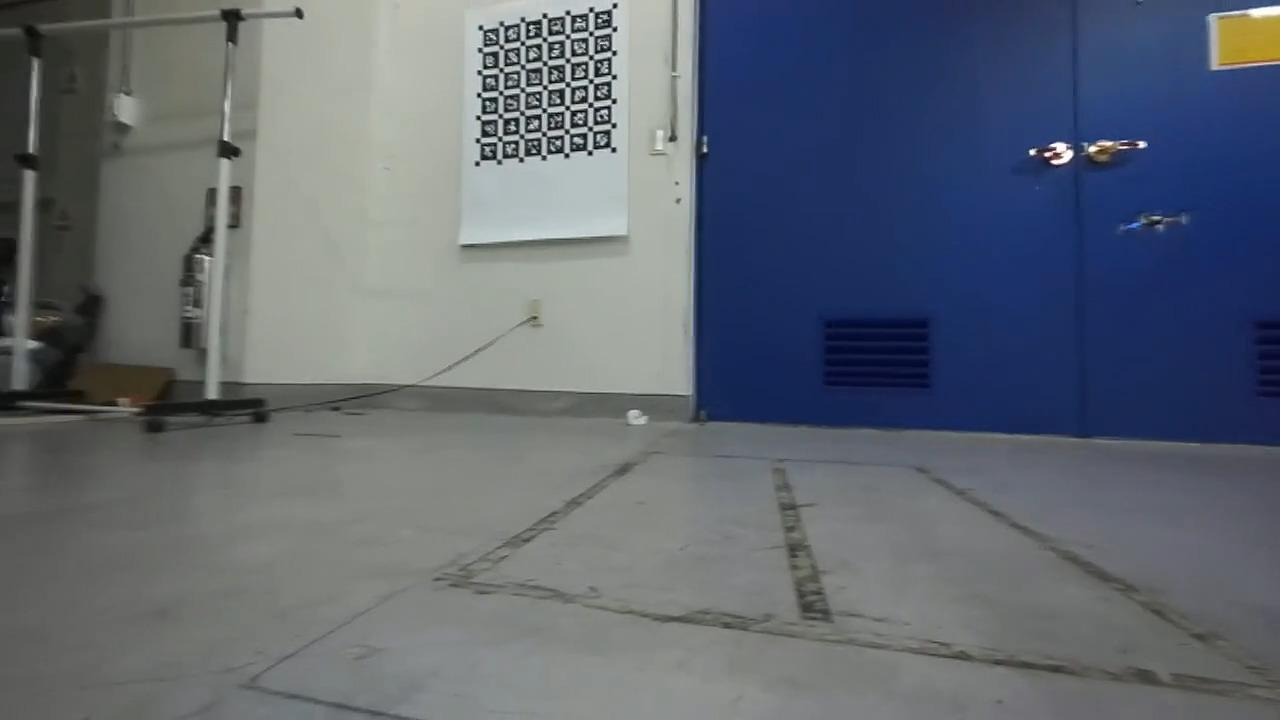crazyflie: (1113, 207, 1194, 238)
